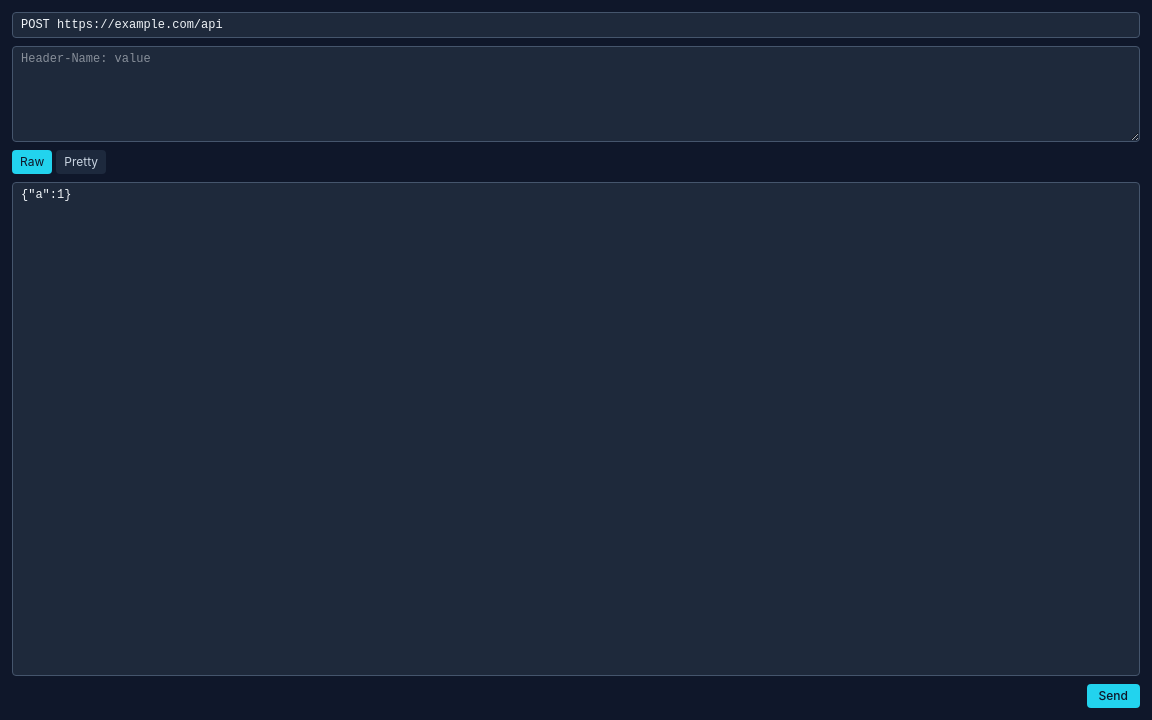
Scenario: ReplayRequestEditor › the Raw tab renders the textarea unchanged after a Pretty switch + back
Note: Switch to Pretty.
Click the button with test id "replay-request-editor-tab-pretty".
click(81, 162)  # box top-left (56, 150), bottom-right (106, 174)
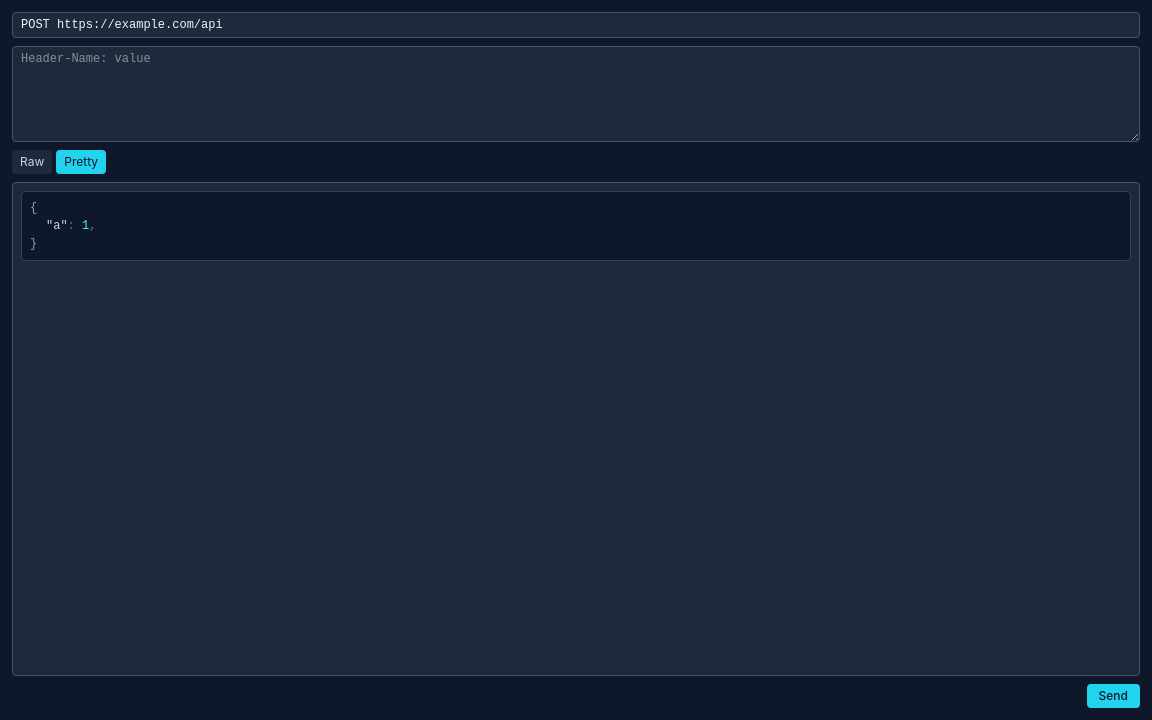
Note: Back to Raw.
Click the button with test id "replay-request-editor-tab-raw".
click(32, 162)  # box top-left (12, 150), bottom-right (52, 174)
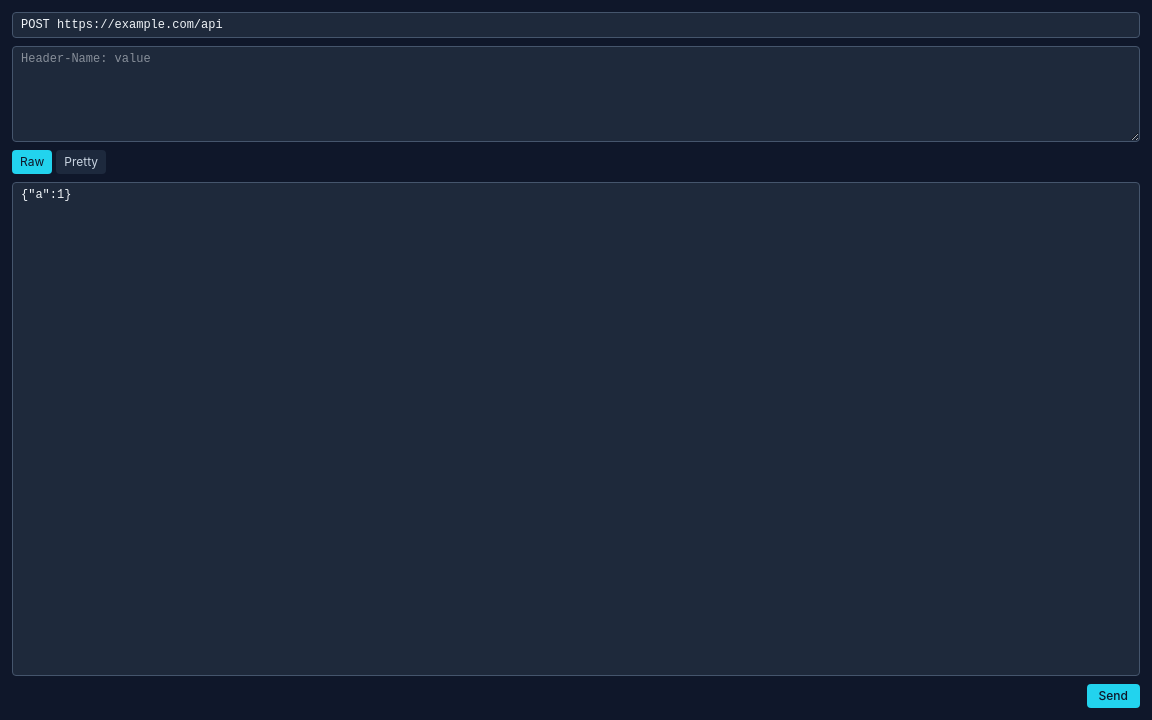
Now the text box with test id "replay-request-editor-body" holds "{\"a\":1}"
